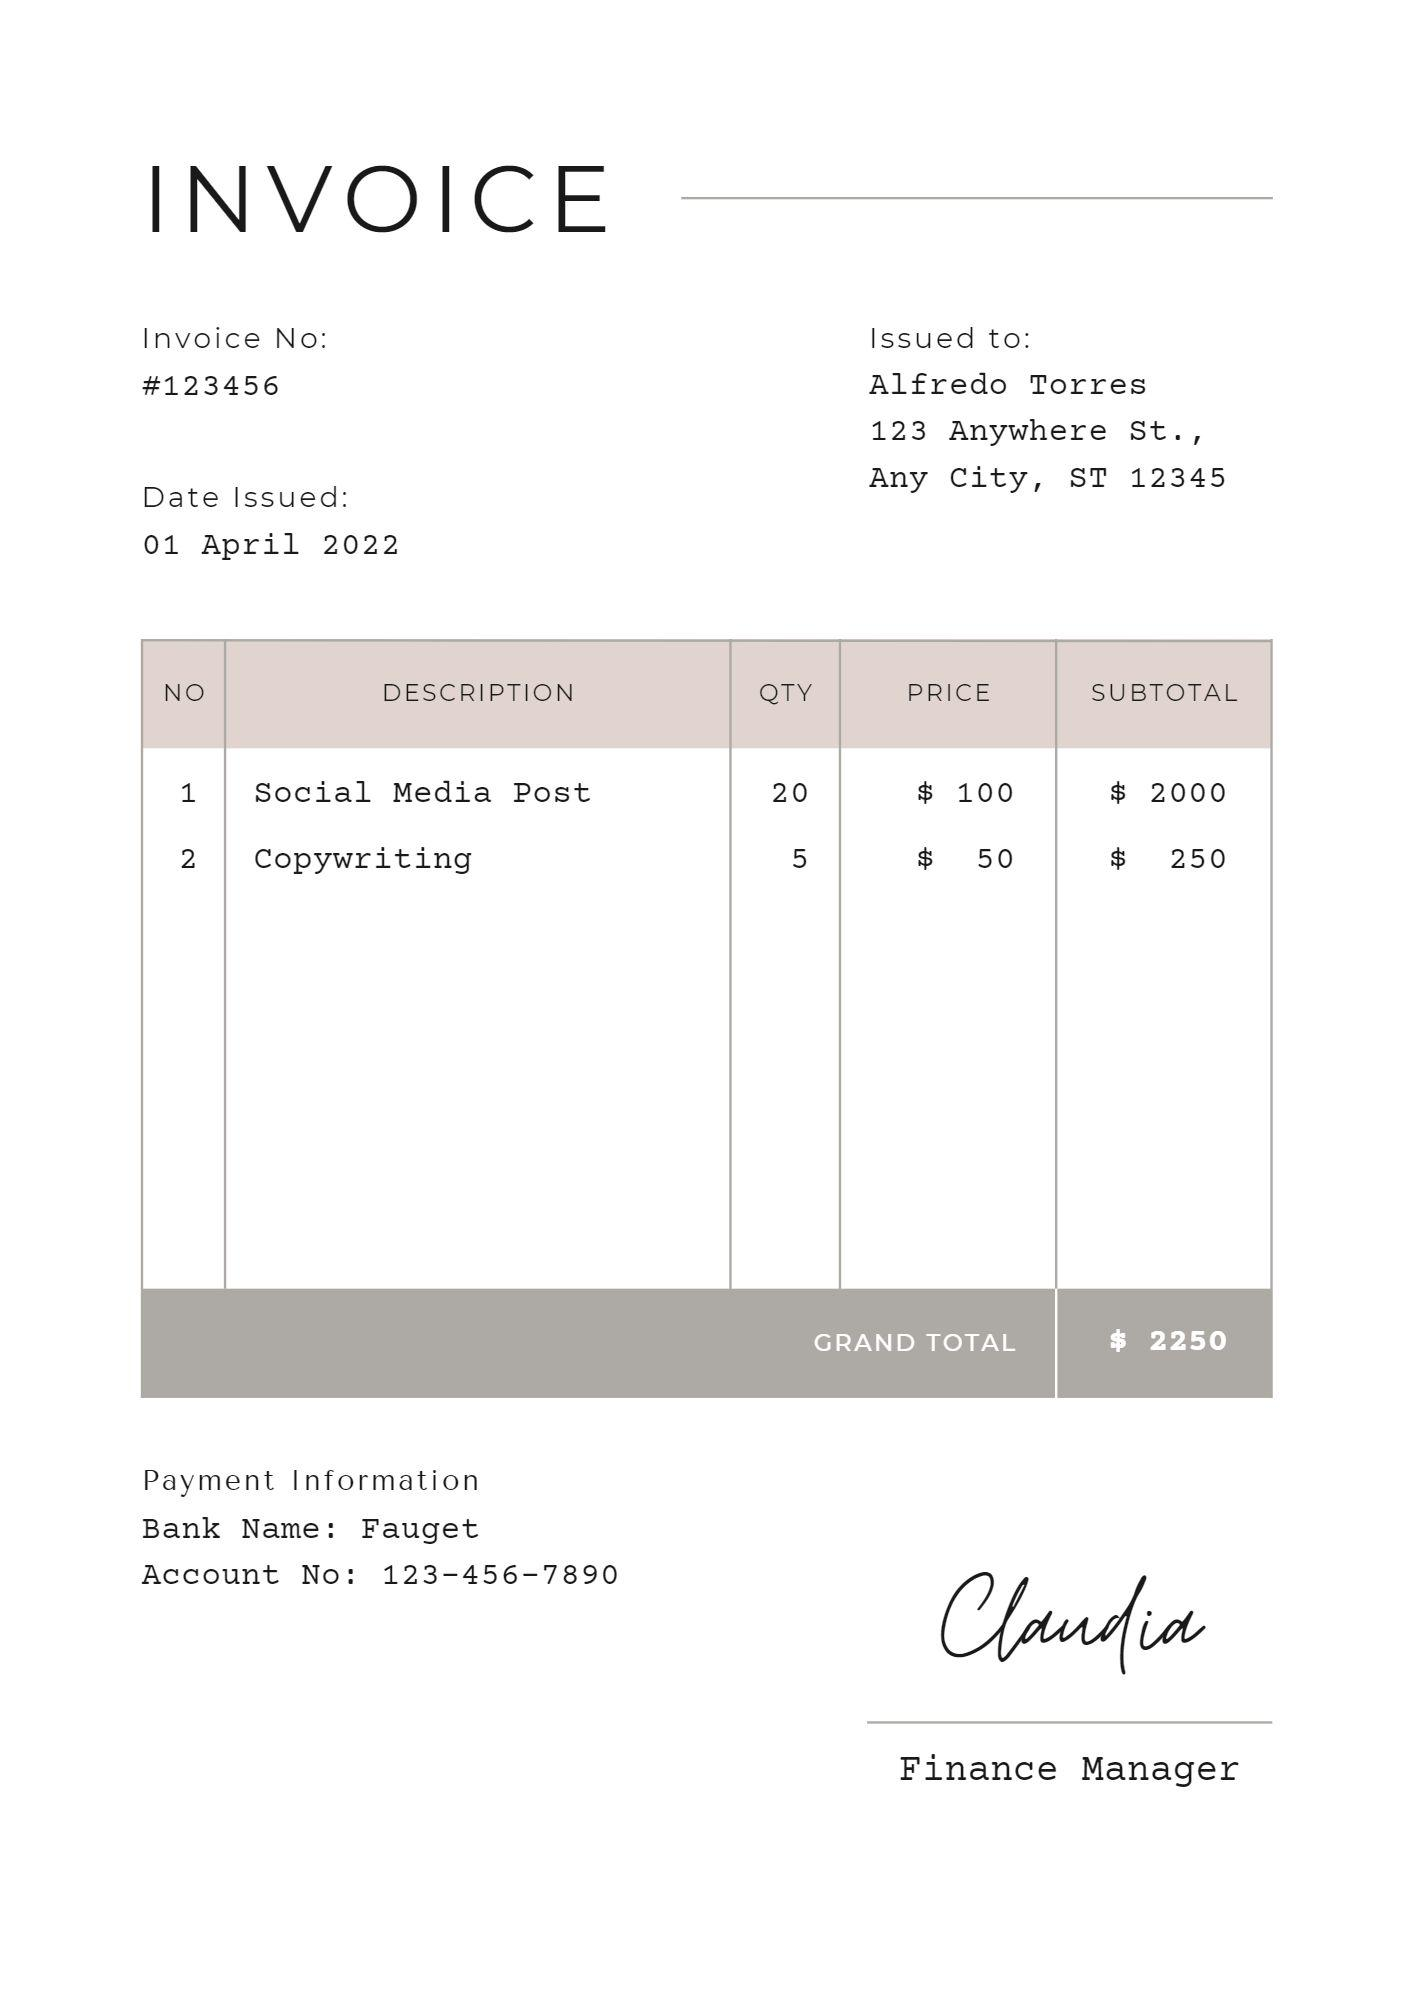ROI: (135, 628, 1291, 1417)
